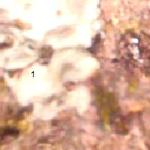alive: (2, 1, 147, 148)
